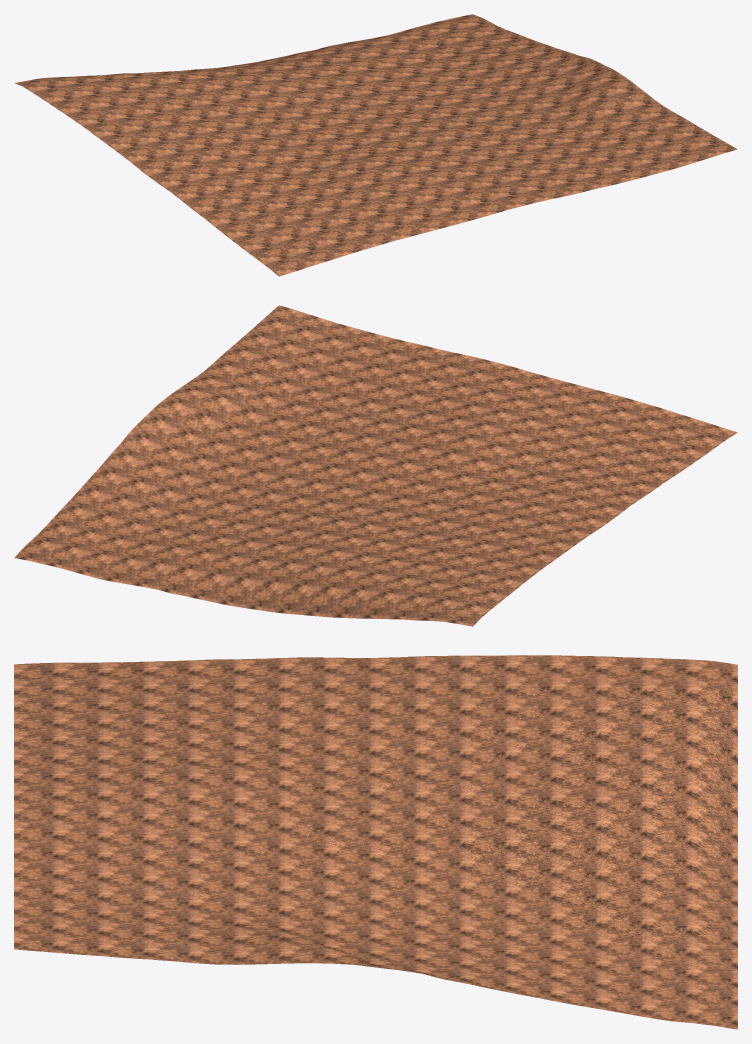
The model's file is terrain_02_12.dae.
The picture shows the model from 3 angles, top to bottom: view 1: azimuth 30°, elevation 25°; view 2: azimuth 150°, elevation 25°; view 3: azimuth 270°, elevation 25°; orthographic projection. The views are drawn at different scales.
Visible parts, largest first — view 1: terrain_02_12-node; view 2: terrain_02_12-node; view 3: terrain_02_12-node.
Boxes of the visible parts, x1=… form: terrain_02_12-node: x1=14, y1=14, x2=737, y2=276; terrain_02_12-node: x1=14, y1=305, x2=737, y2=626; terrain_02_12-node: x1=14, y1=655, x2=737, y2=1029.
Bounding box in the file's own units: 128 × 128 × 15.74.
1 material, 1 textured.
